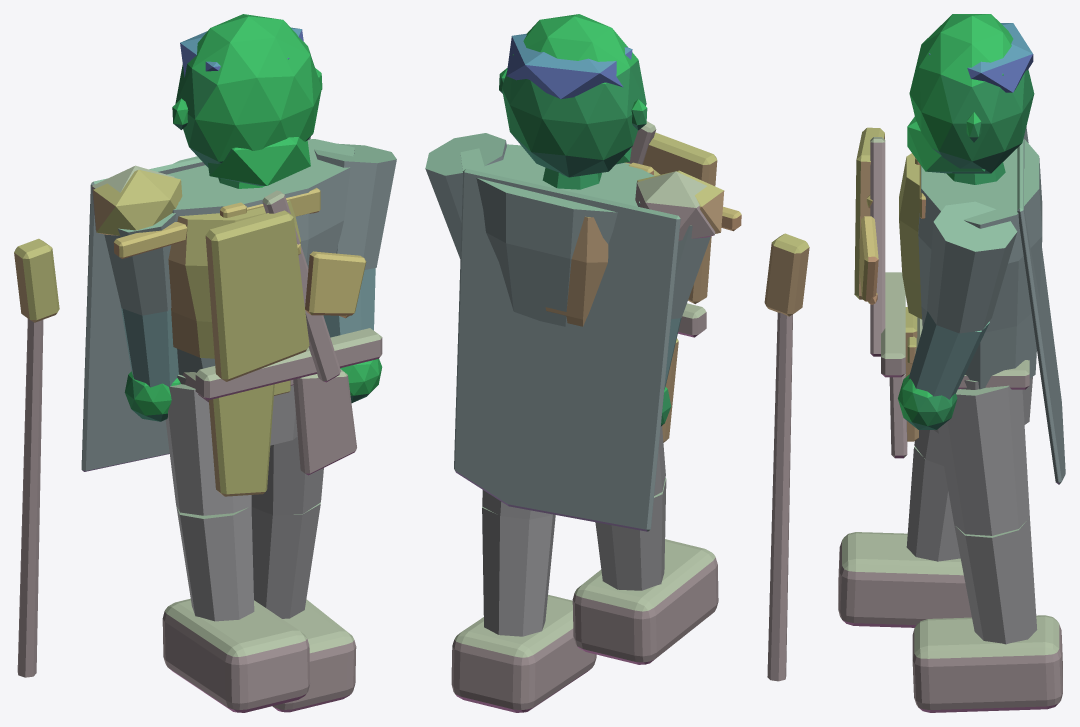
The model's file is npc_raider_passing_r_v01.glb.
3 renders of one model, left to right at view 1: azimuth 30°, elevation 25°; view 2: azimuth 150°, elevation 25°; view 3: azimuth 270°, elevation 25°, orthographic. The views are drawn at different scales.
Parts seen in each view (by area): view 1: GEO_npc_raider_passing_r_v01; view 2: GEO_npc_raider_passing_r_v01; view 3: GEO_npc_raider_passing_r_v01.
Boxes of the visible parts, <box> form: GEO_npc_raider_passing_r_v01: <box>14,14,396,712</box>; GEO_npc_raider_passing_r_v01: <box>425,14,809,712</box>; GEO_npc_raider_passing_r_v01: <box>838,14,1065,712</box>.
Bounding box in the file's own units: 1.19 × 2.07 × 0.6425.
